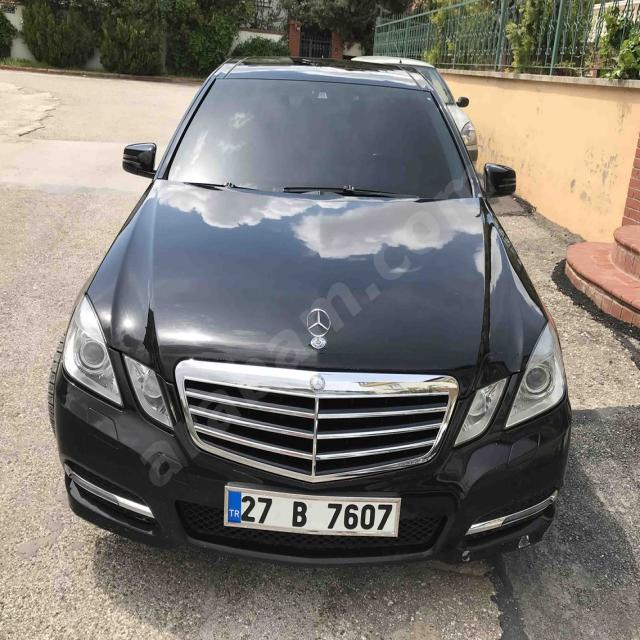license_plate: (227, 490, 397, 535)
